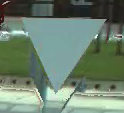Give way: (12, 9, 106, 99)
